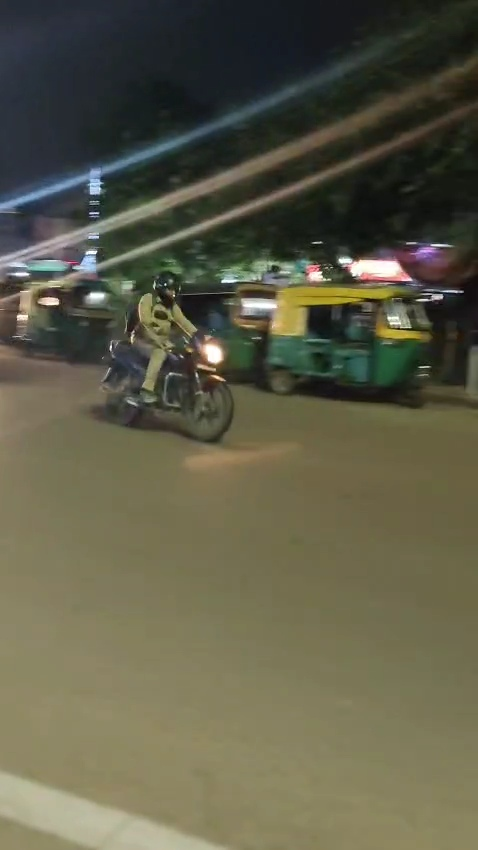BikeWithRider: (89, 261, 243, 449)
Helmet: (146, 266, 187, 309)
